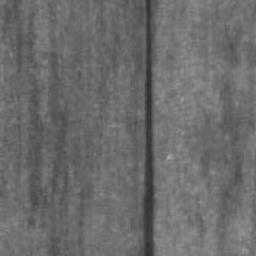Scratches: (140, 0, 157, 256)
